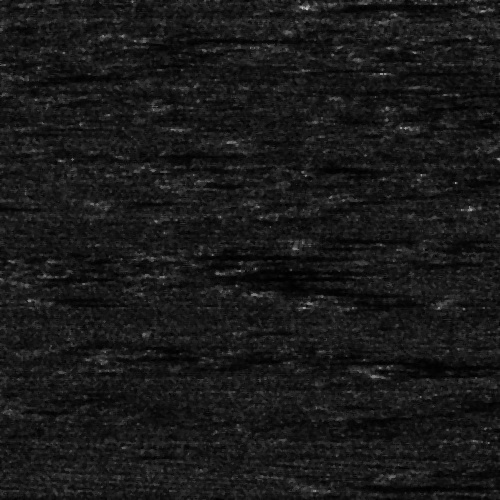object: (130, 248, 223, 261), (130, 271, 213, 280), (292, 1, 365, 10), (373, 357, 414, 372), (362, 367, 403, 382), (282, 481, 365, 488), (31, 293, 84, 302), (459, 1, 500, 10), (227, 264, 268, 273), (427, 90, 480, 93), (0, 72, 29, 77)
shadow: (177, 248, 362, 261), (394, 357, 500, 372), (248, 264, 408, 273), (172, 271, 326, 280), (323, 481, 493, 488), (383, 367, 450, 382), (329, 1, 437, 10), (58, 293, 115, 302), (9, 72, 99, 77), (453, 90, 500, 93), (486, 1, 500, 10)
